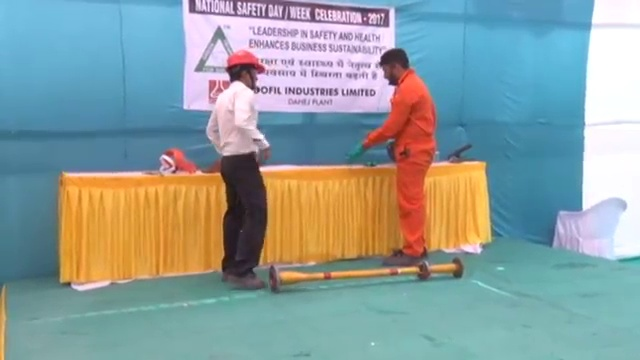helmet: (225, 49, 267, 75)
helmet_off: (379, 47, 409, 87)
helmet_on: (223, 49, 268, 89)
person: (357, 48, 438, 262), (206, 48, 277, 287)
